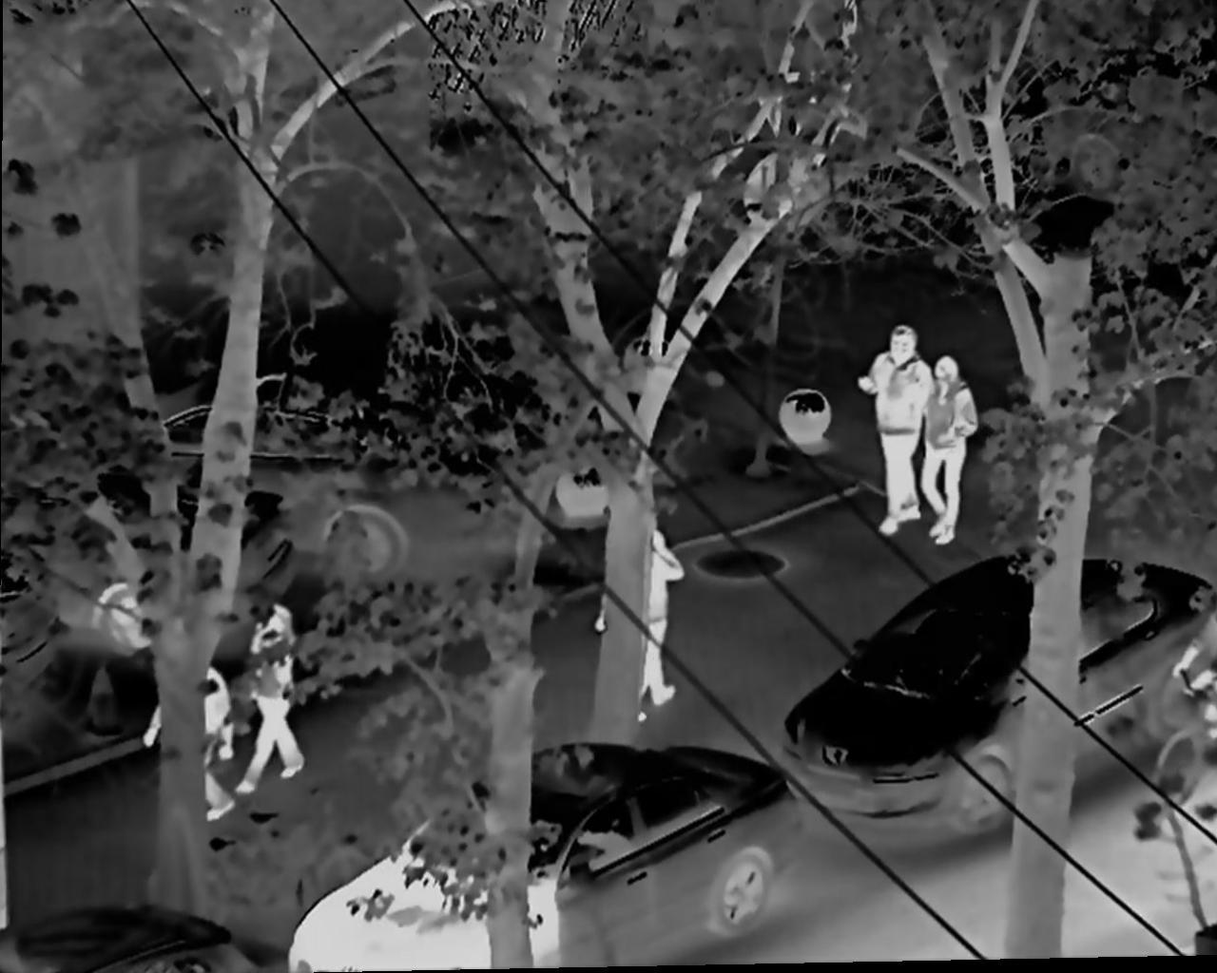person: (138, 651, 230, 832), (857, 319, 923, 537), (235, 605, 307, 794), (618, 522, 682, 721), (920, 354, 978, 544)
